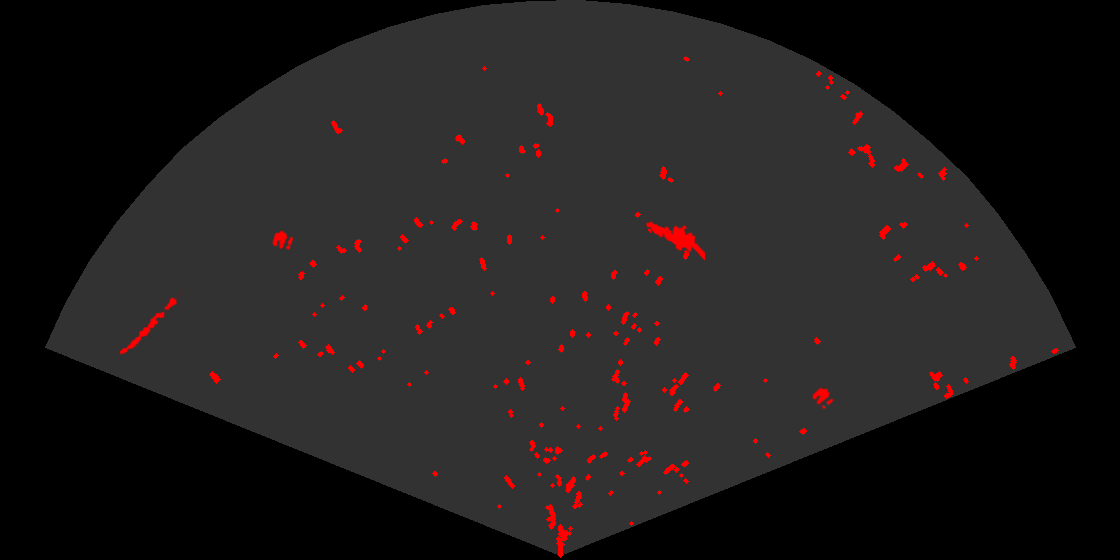ball: (811, 386, 835, 411), (270, 229, 295, 252)
chain: (118, 291, 186, 356)
frogman: (644, 220, 705, 262)
